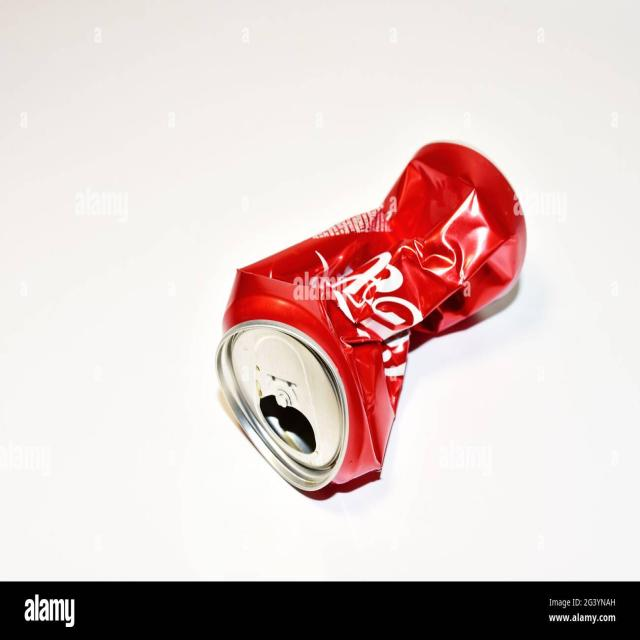can: (175, 113, 542, 502)
